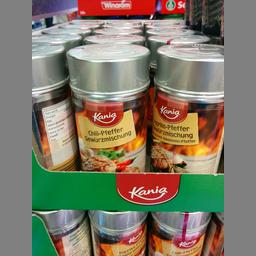spices: (65, 42, 151, 172), (151, 44, 224, 172), (31, 42, 74, 169)
